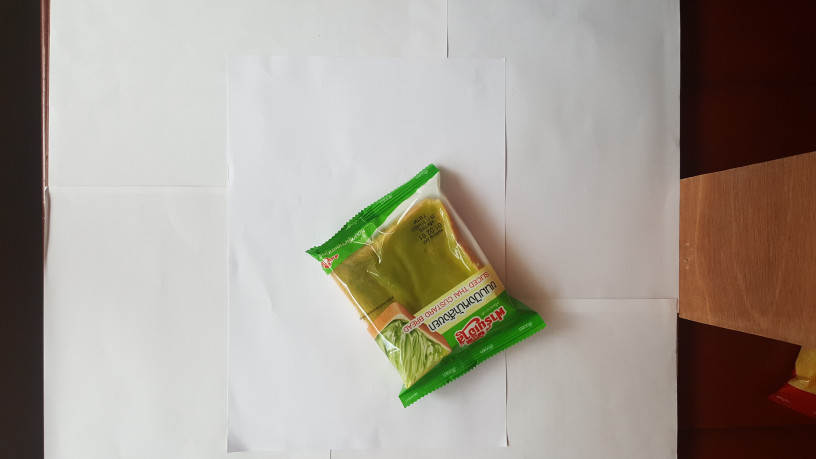farmhouse-bread-pandan: (308, 152, 550, 411)
